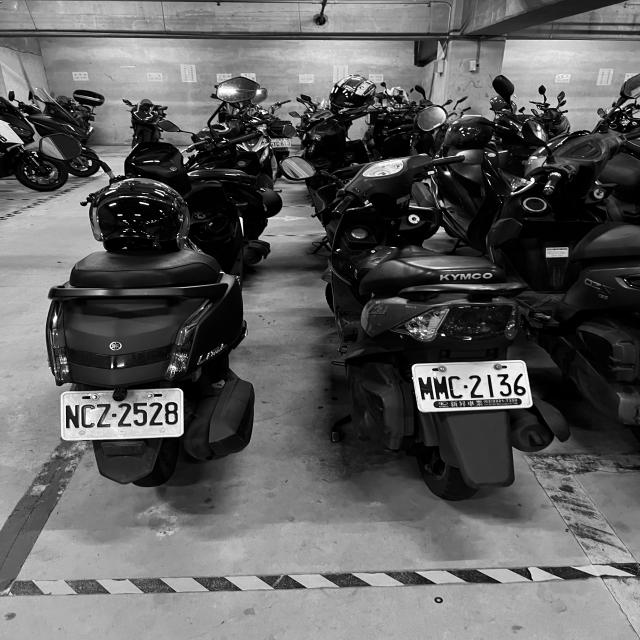-: (111, 412, 119, 418), (462, 384, 469, 389)
1: (485, 373, 496, 398)
2: (116, 402, 133, 427), (147, 402, 163, 426), (468, 374, 483, 399)
3: (497, 372, 513, 397)
5: (133, 401, 147, 426)
6: (512, 372, 528, 397)
8: (163, 401, 179, 425)
C: (81, 404, 95, 428), (450, 375, 463, 398)
M: (432, 375, 452, 401), (417, 375, 435, 400)
N: (66, 404, 80, 429)
Z: (95, 404, 112, 428)
plate: (63, 392, 184, 437), (412, 364, 533, 408)
